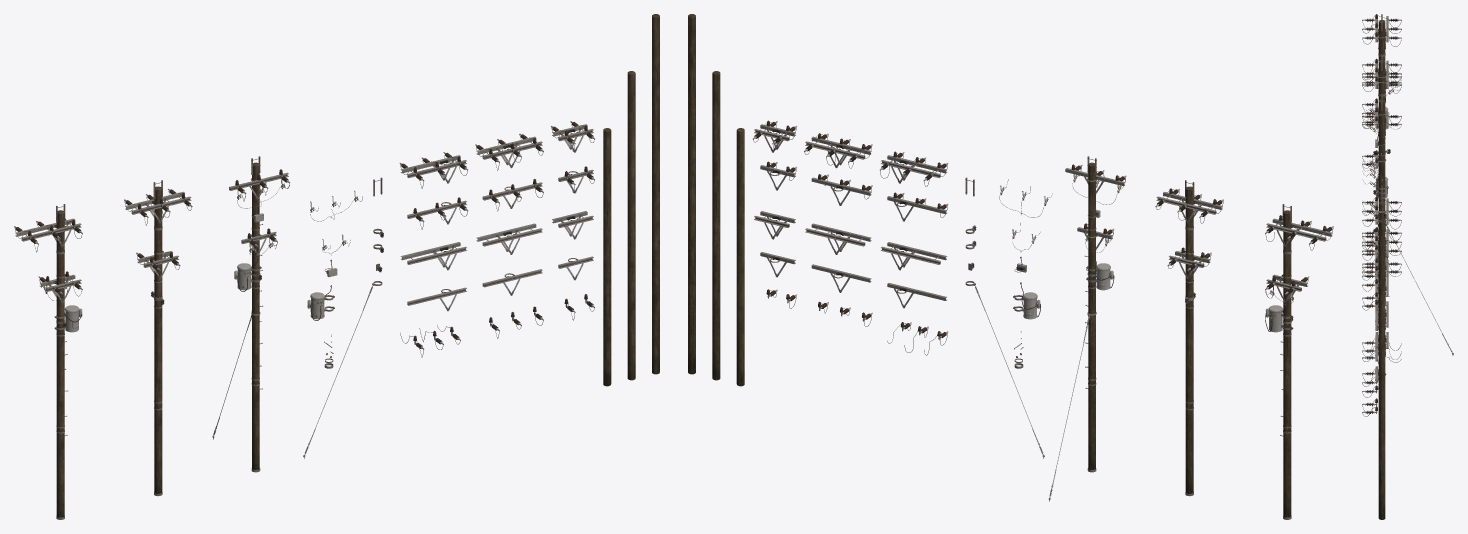
Rendered from modular_electricity_poles.gltf.
3 views of the same model, side by side, from view 1: azimuth 30°, elevation 25°; view 2: azimuth 150°, elevation 25°; view 3: azimuth 270°, elevation 25° (orthographic). The views are drawn at different scales.
Visible parts, largest first — view 1: pole_large, pole, preset_03_pole, preset_02_pole, pole_small, preset_01_pole, connection_large_01, connection_large_offset_01, preset_02_connection_large_01, preset_03_connection_large_offset_01, support_large_01, support_large_offset_01; view 2: pole_large, pole, preset_02_pole, preset_03_pole, preset_01_pole, pole_small, connection_large_01, connection_large_offset_01, preset_02_connection_large_01, preset_03_connection_large_offset_01, support_large_01, support_large_offset_01; view 3: pole_large, preset_01_pole, connection_large_offset_01, preset_03_connection_large_offset_01, preset_02_connection_large_01, connection_large_01, connection_small_01, preset_03_pole, preset_02_pole, preset_01_connection_large_02, preset_02_connection_small_01, preset_03_connection_small_01_02 (+10 smaller).
Part boxes in pixels (left/top/right/bottom): pole_large: left=652, top=14, right=659, bottom=374; pole: left=627, top=71, right=635, bottom=380; preset_03_pole: left=56, top=210, right=64, bottom=517; preset_02_pole: left=154, top=186, right=162, bottom=493; pole_small: left=603, top=128, right=611, bottom=386; preset_01_pole: left=252, top=162, right=259, bottom=469; connection_large_01: left=475, top=133, right=543, bottom=170; connection_large_offset_01: left=399, top=152, right=467, bottom=188; preset_02_connection_large_01: left=124, top=188, right=192, bottom=225; preset_03_connection_large_offset_01: left=14, top=218, right=82, bottom=252; support_large_01: left=476, top=223, right=542, bottom=254; support_large_offset_01: left=400, top=242, right=466, bottom=270; pole_large: left=688, top=14, right=695, bottom=374; pole: left=712, top=71, right=720, bottom=380; preset_02_pole: left=1185, top=186, right=1193, bottom=493; preset_03_pole: left=1283, top=210, right=1291, bottom=517; preset_01_pole: left=1088, top=162, right=1095, bottom=469; pole_small: left=736, top=128, right=744, bottom=386; connection_large_01: left=804, top=133, right=872, bottom=168; connection_large_offset_01: left=880, top=151, right=948, bottom=186; preset_02_connection_large_01: left=1155, top=188, right=1223, bottom=223; preset_03_connection_large_offset_01: left=1265, top=215, right=1333, bottom=250; support_large_01: left=805, top=223, right=871, bottom=254; support_large_offset_01: left=881, top=242, right=947, bottom=270; pole_large: left=1378, top=219, right=1385, bottom=519; preset_01_pole: left=1378, top=99, right=1385, bottom=219; connection_large_offset_01: left=1362, top=196, right=1401, bottom=231; preset_03_connection_large_offset_01: left=1362, top=14, right=1401, bottom=49; preset_02_connection_large_01: left=1362, top=58, right=1401, bottom=88; connection_large_01: left=1362, top=227, right=1401, bottom=257; connection_small_01: left=1362, top=258, right=1401, bottom=282; preset_03_pole: left=1378, top=20, right=1385, bottom=60; preset_02_pole: left=1378, top=60, right=1385, bottom=100; preset_01_connection_large_02: left=1362, top=98, right=1386, bottom=128; preset_02_connection_small_01: left=1362, top=112, right=1401, bottom=135; preset_03_connection_small_01_02: left=1362, top=74, right=1401, bottom=95.
Bounding box in the file's own units: 13.12 × 7 × 1.96.
Materials: 2 (2 with a texture image).
